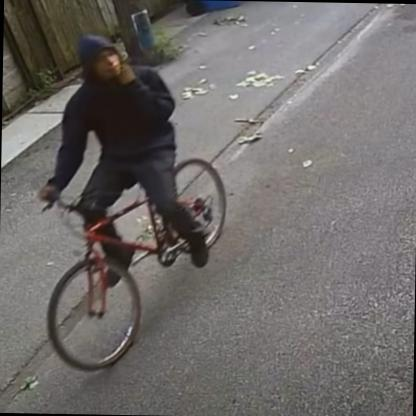Human Body: (32, 28, 218, 274)
